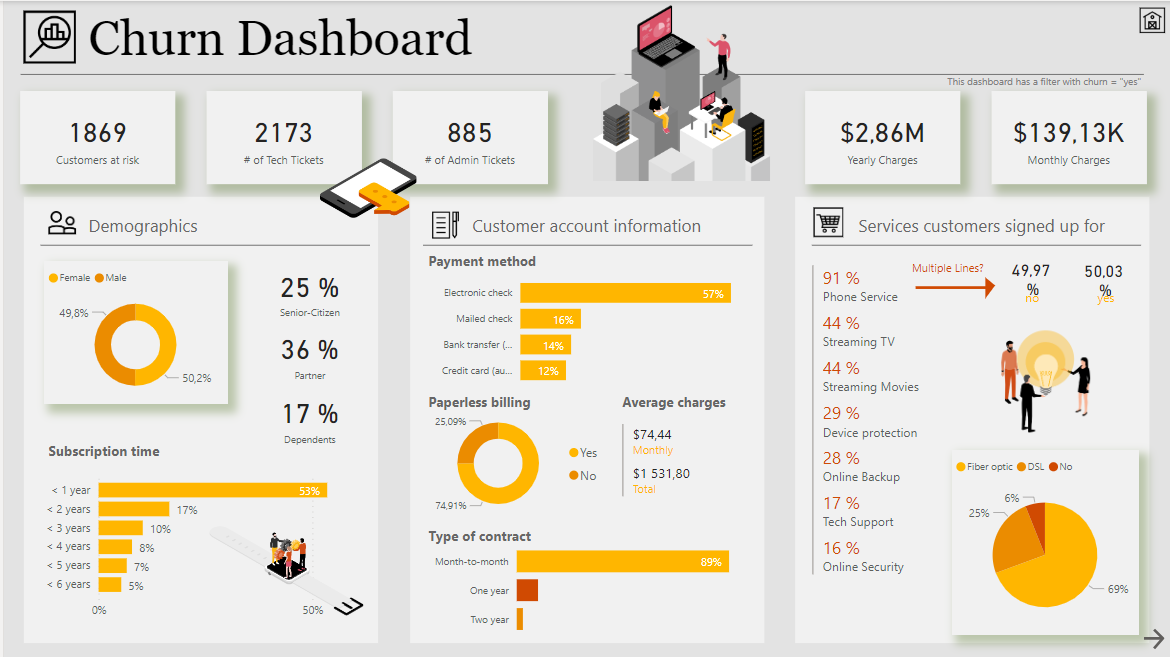

The dashboard page shown, as its layout file describes it:
{"tool":"powerbi","page":{"name":"Churn","canvas":[1280,720],"ordinal":1},"visuals":[{"type":"textbox","box":[87.7,4.9,1173.8,75],"z":0},{"type":"basicShape","box":[8.7,60.7,1253,40.5],"z":1000},{"type":"basicShape","box":[18.3,210,396.8,499.9],"z":2000},{"type":"card","fields":{"Values":["CountNonNull(churn.customerID)"]},"box":[18.5,99.4,170,102.3],"z":3000},{"type":"basicShape","box":[441.6,210,396.8,499.9],"z":4000},{"type":"basicShape","box":[864.9,210,396.8,499.9],"z":5000},{"type":"textbox","box":[508.5,228.6,314.9,35.6],"z":6000},{"type":"basicShape","box":[450.7,248.9,381.4,39.5],"z":7000},{"type":"image","box":[461.3,226.3,47.2,39.5],"z":8000},{"type":"textbox","box":[932.7,228.6,314.9,35.6],"z":9000},{"type":"basicShape","box":[877.4,248.9,381.4,39.5],"z":10000},{"type":"textbox","box":[88,228.6,314.9,35.6],"z":11000},{"type":"basicShape","box":[30.2,248.9,381.4,39.5],"z":12000},{"type":"image","box":[883.2,220.6,42.4,43.3],"z":13000},{"type":"image","box":[43.3,220.6,40.5,44.3],"z":14000},{"type":"donutChart","fields":{"Category":["churn.gender"],"Y":["CountNonNull(churn.gender)"]},"box":[43.8,286,201.3,156.6],"z":15000},{"type":"card","fields":{"Values":["churn.SeniorCitizen in %"]},"box":[271.4,268.7,128.1,100.2],"z":16000},{"type":"card","fields":{"Values":["churn.Partner in %"]},"box":[271.4,338.1,128.4,100.2],"z":17000},{"type":"card","fields":{"Values":["churn.Dependents in %"]},"box":[271.4,407.5,128.4,100.2],"z":18000},{"type":"clusteredBarChart","fields":{"Category":["churn.Contract"],"Y":["CountNonNull(churn.Contract)"]},"box":[461.3,577.9,370.8,131.9],"z":19000},{"type":"clusteredBarChart","fields":{"Y":["CountNonNull(churn.PaymentMethod)"],"Category":["churn.PaymentMethod"]},"box":[461.3,286,370.8,148.3],"z":20000},{"type":"textbox","box":[461.3,269.7,314.9,35.6],"z":21000},{"type":"textbox","box":[461.3,424.7,204.2,35.6],"z":22000},{"type":"donutChart","fields":{"Category":["churn.PaperlessBilling"],"Y":["CountNonNull(churn.PaperlessBilling)"]},"box":[461.3,438.2,204.2,139.7],"z":23000},{"type":"multiRowCard","fields":{"Values":["Avg(churn.MonthlyCharges)","Avg(churn.TotalCharges)"]},"box":[674.2,460.4,149.3,95.3],"z":24000},{"type":"textbox","box":[461.3,572.1,314.9,35.6],"z":25000},{"type":"pieChart","fields":{"Category":["churn.InternetService"],"Y":["Divide(CountNonNull(churn.InternetService), ScopedEval(CountNonNull(churn.InternetService), []))"]},"box":[1040.4,492.9,205.5,203.6],"z":26000},{"type":"card","fields":{"Values":["churn.Multiple Lines in %"]},"box":[1172.8,276.4,72.2,62.6],"z":27000},{"type":"card","fields":{"Values":["churn.Multiple lines no in %"]},"box":[1093.1,276.4,72.2,61.6],"z":28000},{"type":"textbox","box":[971.7,278.2,129.4,27.2],"z":29000},{"type":"textbox","box":[1092.2,311,73.2,35.6],"z":30000},{"type":"textbox","box":[1172.8,311,73.2,35.6],"z":31000},{"type":"textbox","box":[674.2,424.7,148.3,35.6],"z":32000},{"type":"multiRowCard","fields":{"Values":["churn.Phone Service in %","churn.Streaming TV in %","churn.Streaming Movies in %","churn.Device protection in %","churn.Online Bacup in %","churn.Tech Support in %","churn.Online Sec. in %"]},"box":[882.2,286,165.3,414.3],"z":33000},{"type":"basicShape","box":[990.2,300.5,97.3,28.2],"z":34000},{"type":"basicShape","box":[1063.1,296.7,37.9,32.1],"z":35000},{"type":"clusteredBarChart","fields":{"Y":["CountNonNull(churn.Churn)"],"Category":["churn.Loyalty"]},"box":[37,507.7,365.7,179],"z":36000},{"type":"textbox","box":[43.8,478.5,314.2,35],"z":37000},{"type":"image","box":[1048.2,356.5,190.9,121.8],"z":38000},{"type":"actionButton","box":[1246.1,680.1,31.6,39.5],"z":39000},{"type":"image","box":[16.6,4.9,67.2,68.2],"z":40000},{"type":"card","fields":{"Values":["Sum(churn.MonthlyCharges)"]},"box":[1083.9,99.4,170,102.3],"z":41000},{"type":"image","box":[634.9,0,216.9,202.2],"z":42000},{"type":"image","box":[221.1,556.2,178.3,139.3],"z":43000},{"type":"card","fields":{"Values":["Sum(churn.numTechTickets)"]},"box":[222.8,99.4,170,102.3],"z":44000},{"type":"card","fields":{"Values":["Sum(churn.numAdminTickets)"]},"box":[427.1,99.4,170,102.3],"z":45000},{"type":"card","fields":{"Values":["Sum(churn.TotalCharges)"]},"box":[879.7,99.4,170,102.3],"z":46000},{"type":"textbox","box":[897,72.3,355.9,30.5],"z":47000},{"type":"image","box":[341.9,151,115.9,108.1],"z":48000},{"type":"image","box":[1242,0,38,42.9],"z":49000}]}

Visuals, with their boxes in screenshot pixels (x1, y1, x2, y2), scaled from the page's 1280x720 canvas onto the 1170x657 screenshot:
textbox: <box>80,4,1153,73</box>
basicShape: <box>8,55,1153,92</box>
basicShape: <box>17,192,379,648</box>
card - CountNonNull(churn.customerID): <box>17,91,172,184</box>
basicShape: <box>404,192,766,648</box>
basicShape: <box>791,192,1153,648</box>
textbox: <box>465,209,753,241</box>
basicShape: <box>412,227,761,263</box>
image: <box>422,206,465,243</box>
textbox: <box>853,209,1140,241</box>
basicShape: <box>802,227,1151,263</box>
textbox: <box>80,209,368,241</box>
basicShape: <box>28,227,376,263</box>
image: <box>807,201,846,241</box>
image: <box>40,201,77,242</box>
donutChart - churn.gender x CountNonNull(churn.gender): <box>40,261,224,404</box>
card - churn.SeniorCitizen in %: <box>248,245,365,337</box>
card - churn.Partner in %: <box>248,309,365,400</box>
card - churn.Dependents in %: <box>248,372,365,463</box>
clusteredBarChart - churn.Contract x CountNonNull(churn.Contract): <box>422,527,761,648</box>
clusteredBarChart - CountNonNull(churn.PaymentMethod) x churn.PaymentMethod: <box>422,261,761,396</box>
textbox: <box>422,246,709,279</box>
textbox: <box>422,388,608,420</box>
donutChart - churn.PaperlessBilling x CountNonNull(churn.PaperlessBilling): <box>422,400,608,527</box>
multiRowCard - Avg(churn.MonthlyCharges) x Avg(churn.TotalCharges): <box>616,420,753,507</box>
textbox: <box>422,522,709,555</box>
pieChart - churn.InternetService x Divide(CountNonNull(churn.InternetService), ScopedEval(CountNonNull(churn.InternetService), [])): <box>951,450,1139,636</box>
card - churn.Multiple Lines in %: <box>1072,252,1138,309</box>
card - churn.Multiple lines no in %: <box>999,252,1065,308</box>
textbox: <box>888,254,1006,279</box>
textbox: <box>998,284,1065,316</box>
textbox: <box>1072,284,1139,316</box>
textbox: <box>616,388,752,420</box>
multiRowCard - churn.Phone Service in % x churn.Streaming TV in %: <box>806,261,957,639</box>
basicShape: <box>905,274,994,300</box>
basicShape: <box>972,271,1006,300</box>
clusteredBarChart - CountNonNull(churn.Churn) x churn.Loyalty: <box>34,463,368,627</box>
textbox: <box>40,437,327,469</box>
image: <box>958,325,1133,436</box>
actionButton: <box>1139,621,1168,656</box>
image: <box>15,4,77,67</box>
card - Sum(churn.MonthlyCharges): <box>991,91,1146,184</box>
image: <box>580,0,779,185</box>
image: <box>202,508,365,635</box>
card - Sum(churn.numTechTickets): <box>204,91,359,184</box>
card - Sum(churn.numAdminTickets): <box>390,91,546,184</box>
card - Sum(churn.TotalCharges): <box>804,91,959,184</box>
textbox: <box>820,66,1145,94</box>
image: <box>313,138,418,236</box>
image: <box>1135,0,1169,39</box>
